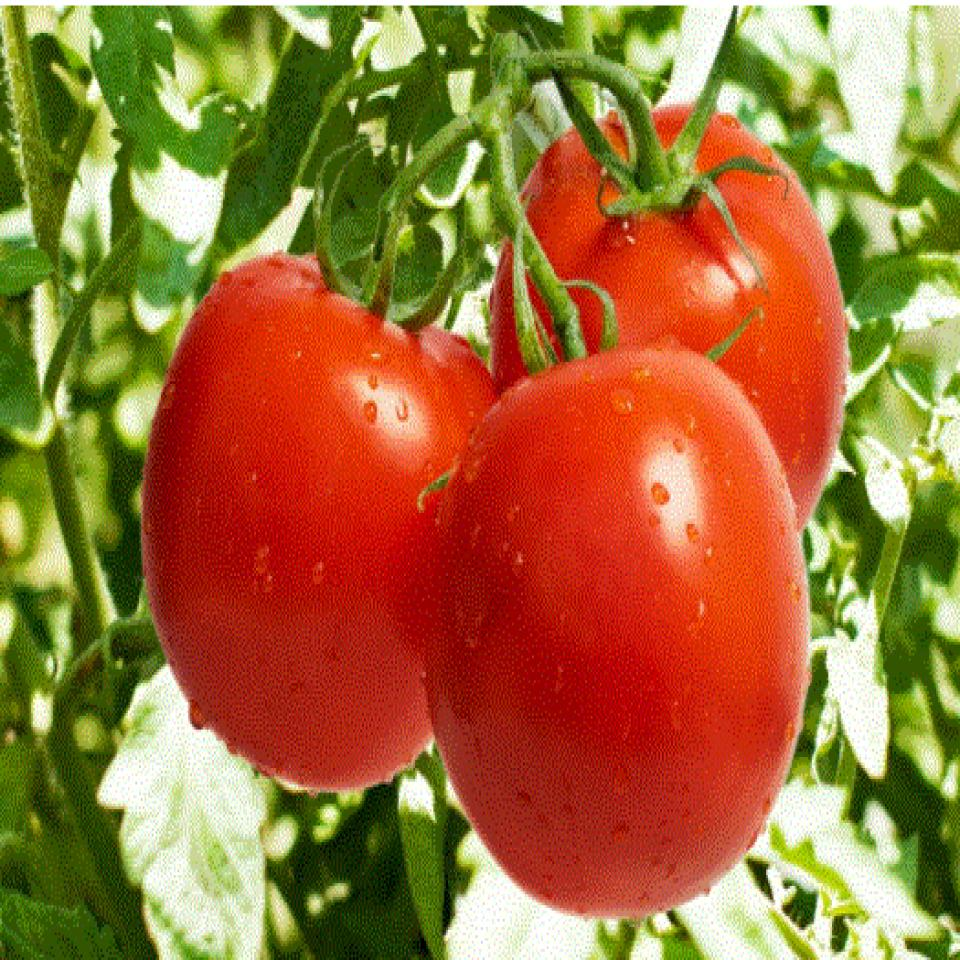Healthy: (454, 369, 827, 905), (160, 249, 451, 756), (485, 100, 853, 466)
